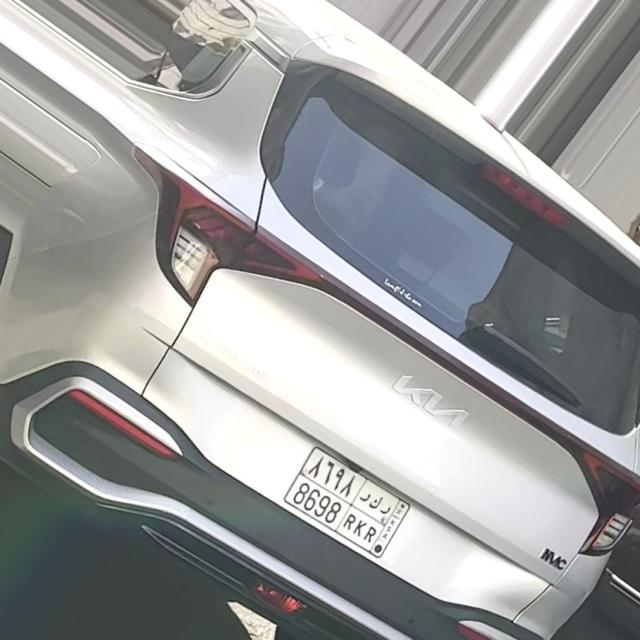Car-plate: (267, 429, 420, 569)
